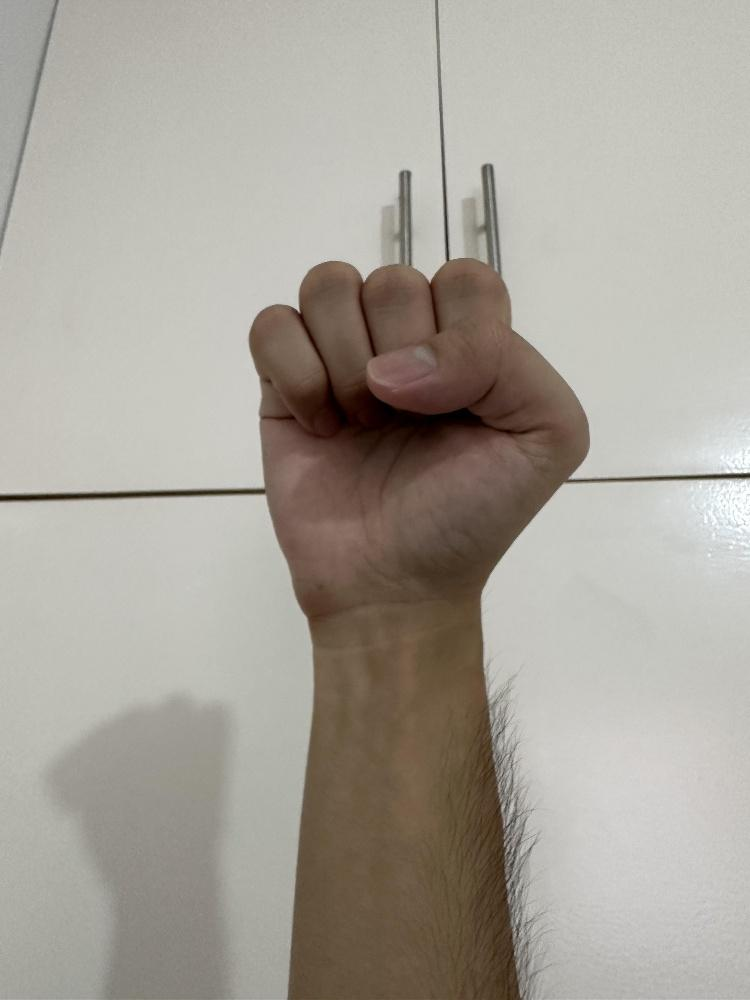s: (244, 254, 595, 630)
